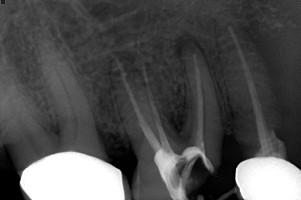Endo-Periodontal Lesion: (167, 89, 187, 132), (49, 121, 62, 137)
Furcation Involvement: (172, 33, 204, 61)
